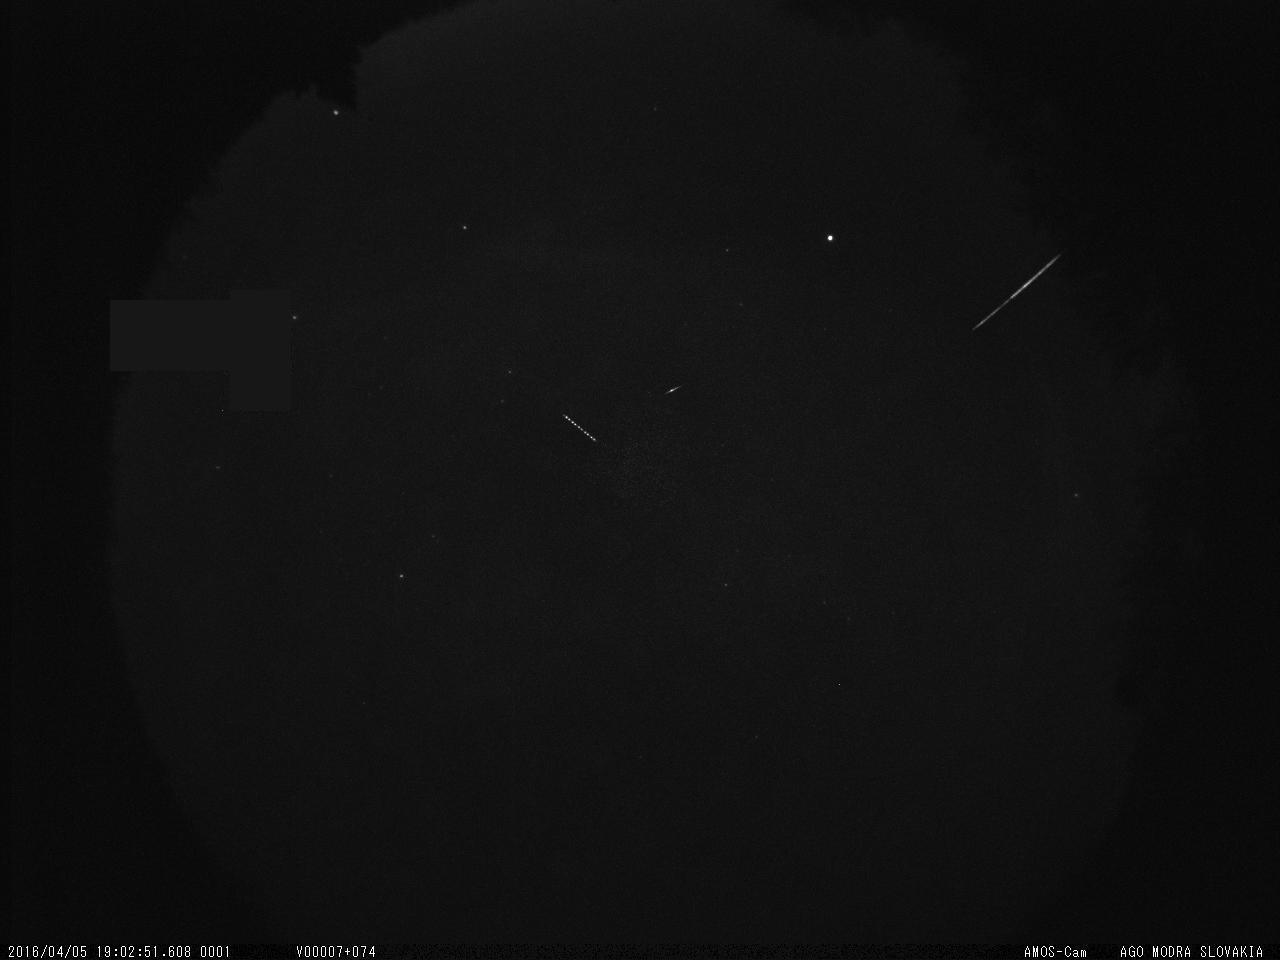meteor: (945, 250, 1077, 331), (661, 380, 686, 400)
